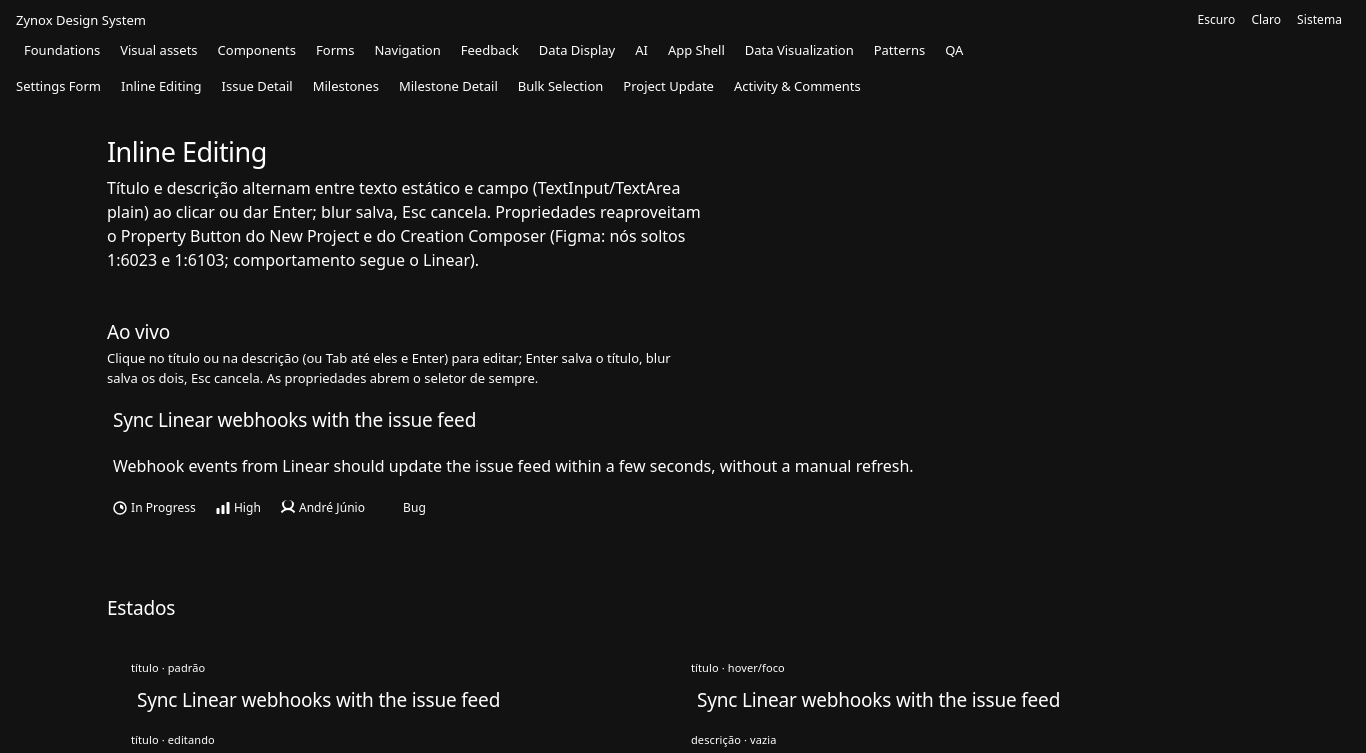
Inline Editing: título › blur salva o título
Step 1. Click the button with aria-label "Edit title:" → (295, 420), box [107,404,1259,436]
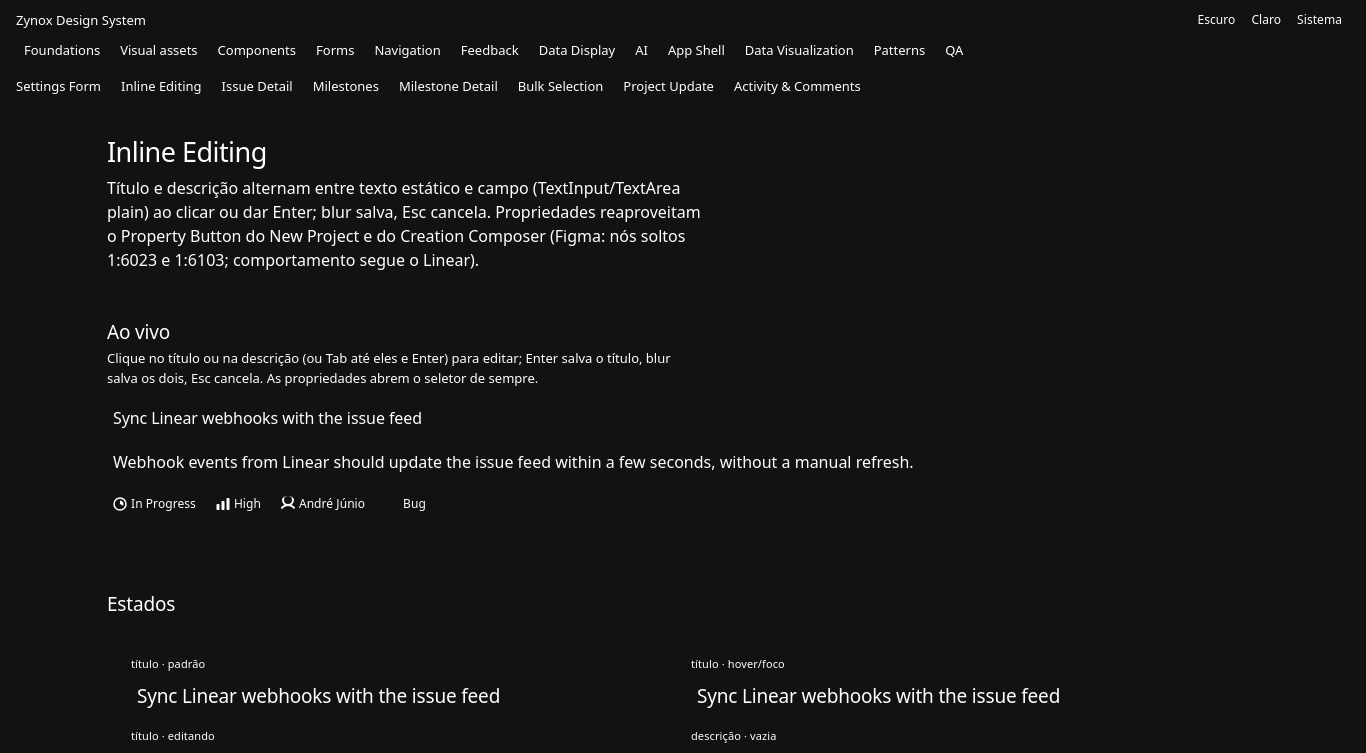
Step 2. Replace the text in the field named "Title" below "Ao vivo" with "Saved on blur" → (683, 418), box [107,404,1259,432]
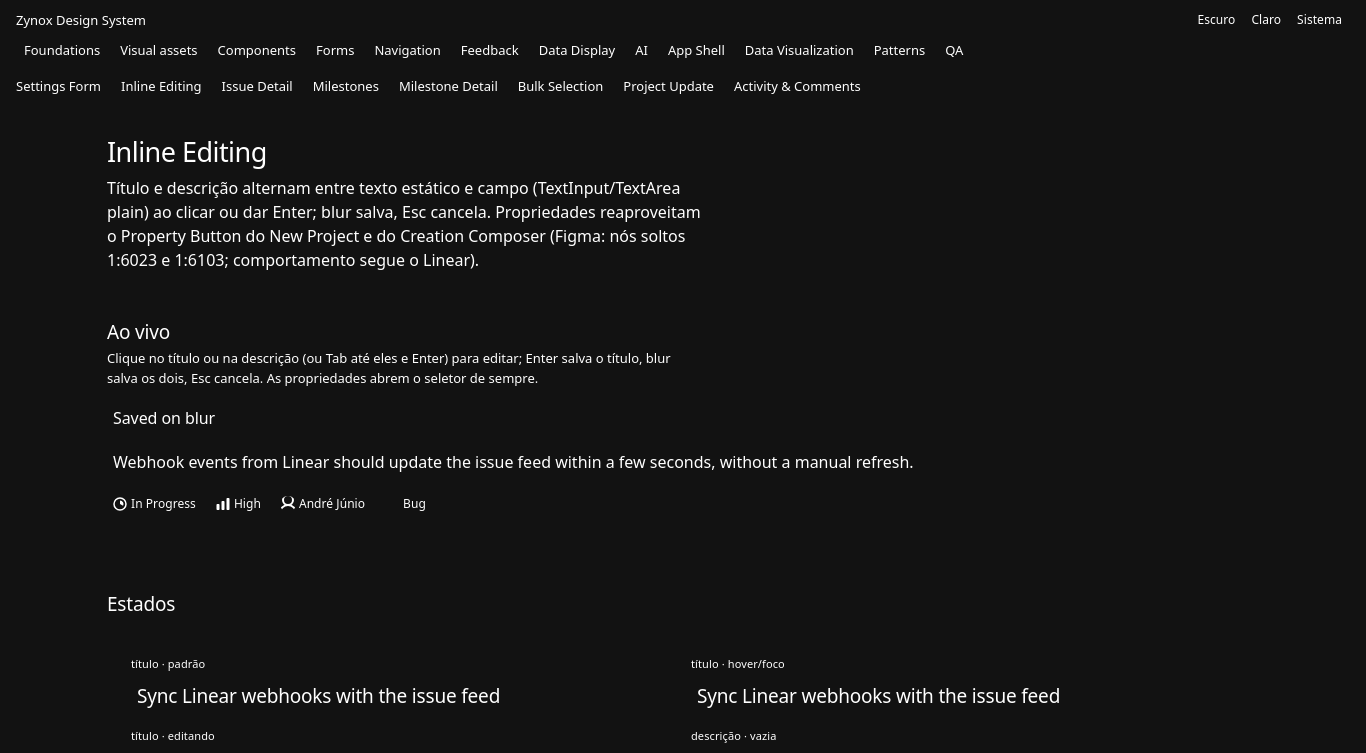
Step 3. Click the heading "Inline Editing" → (187, 152), box [107,133,267,170]
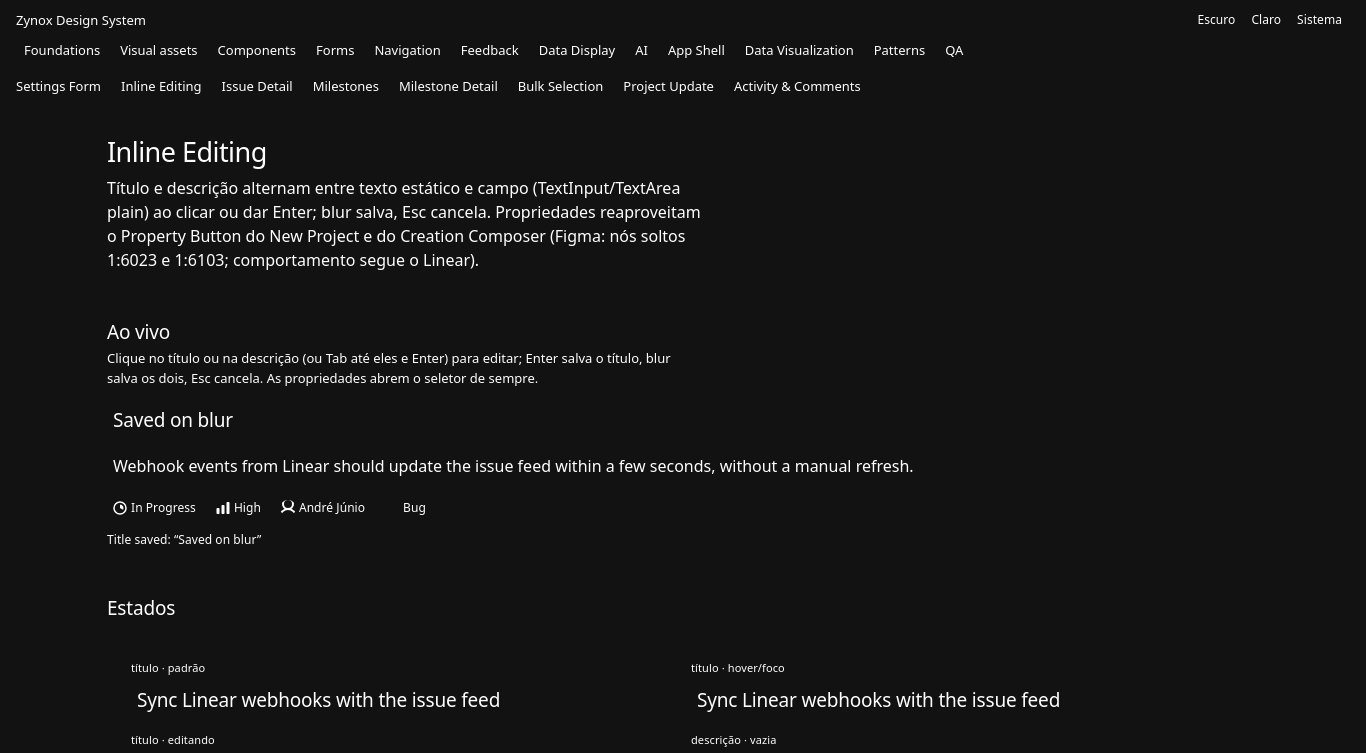
Now the button with aria-label "Edit title: Saved on blur" is shown, box [107,404,1259,436]
